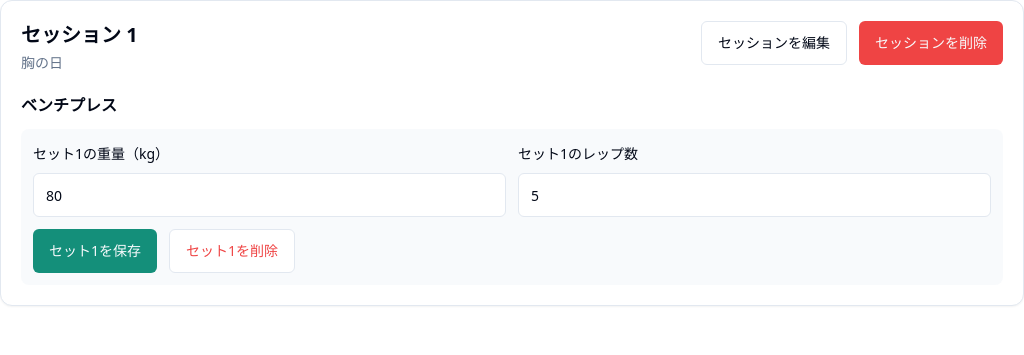
Scenario: WorkoutSessionCard › shows the safe error when the final set cannot be deleted
Step 1. Click the button "セット1を削除" → [232, 251], box left=169, top=229, right=295, bottom=273
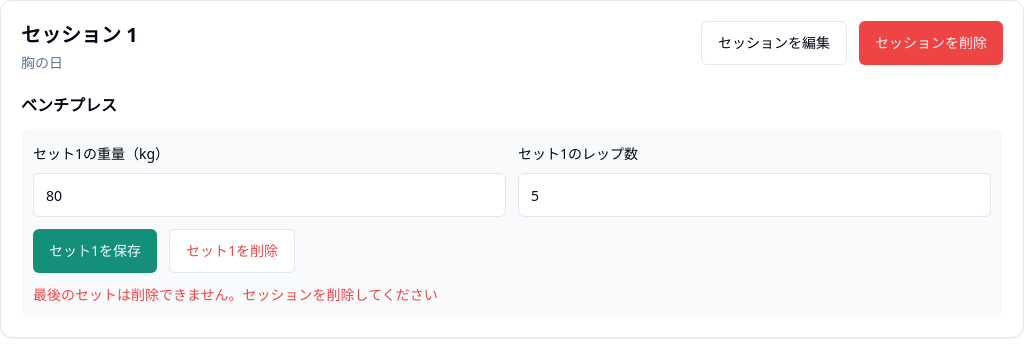
Expected: the message shows "最後のセットは削除できません", left=33, top=285, right=438, bottom=304
